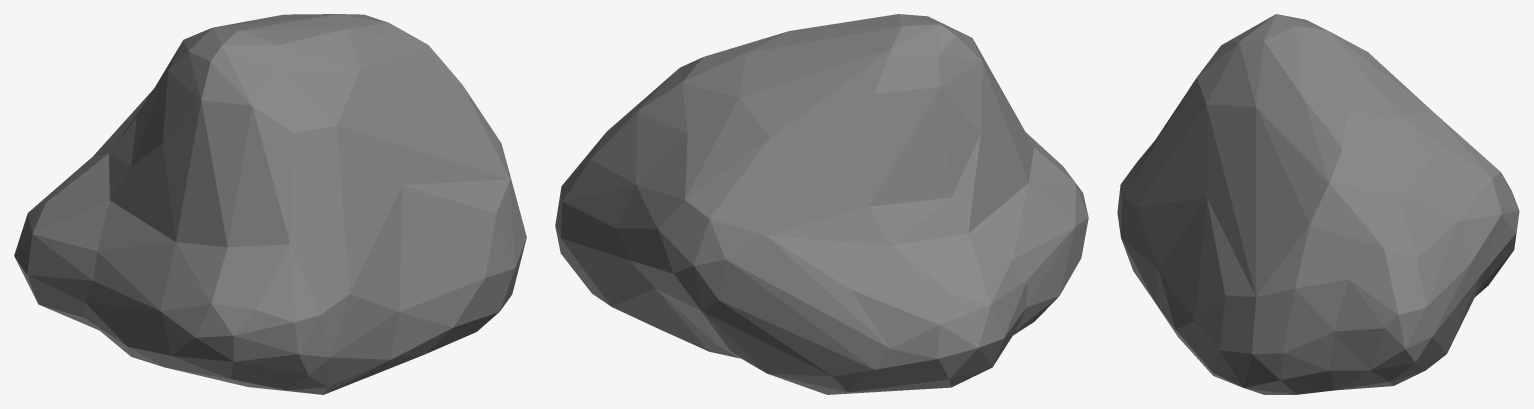
Rendered from pierre2.gltf.
3 renders of one model, left to right at view 1: azimuth 30°, elevation 25°; view 2: azimuth 150°, elevation 25°; view 3: azimuth 270°, elevation 25°, orthographic. The views are drawn at different scales.
Parts seen in each view (by area): view 1: Icosphere.001; view 2: Icosphere.001; view 3: Icosphere.001.
Part boxes in pixels (box(x1,y1,x2,y2)): Icosphere.001: box(14, 14, 526, 394); Icosphere.001: box(555, 14, 1088, 394); Icosphere.001: box(1117, 14, 1519, 394).
Size of the model in its own units: 1.63 by 1.11 by 1.46.
Materials: 1 (1 with a texture image).
